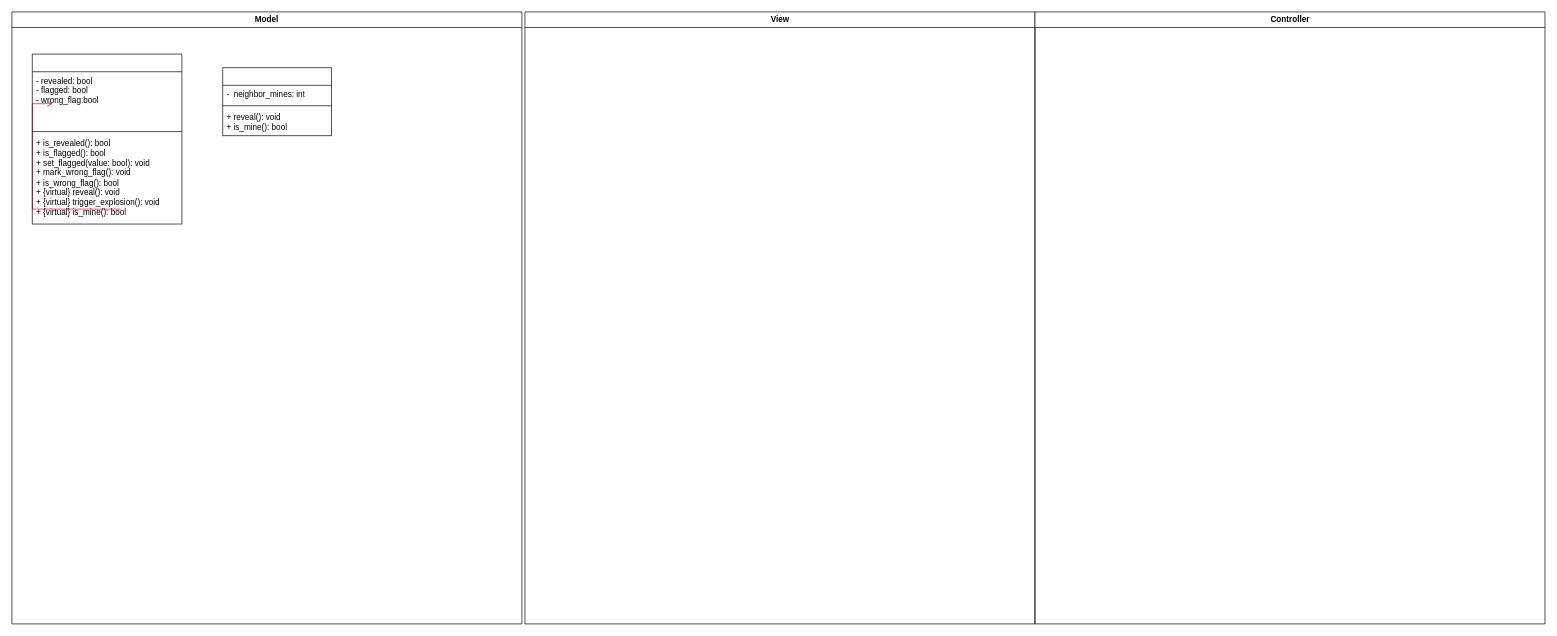
The diagram is 1557 pixels wide and 636 high, and some of its shapes have lost their labels. Each missing label, with the box of its shape:
EmptyTile: (222, 67, 332, 136)
TileModel {abstract}: (32, 53, 182, 224)
